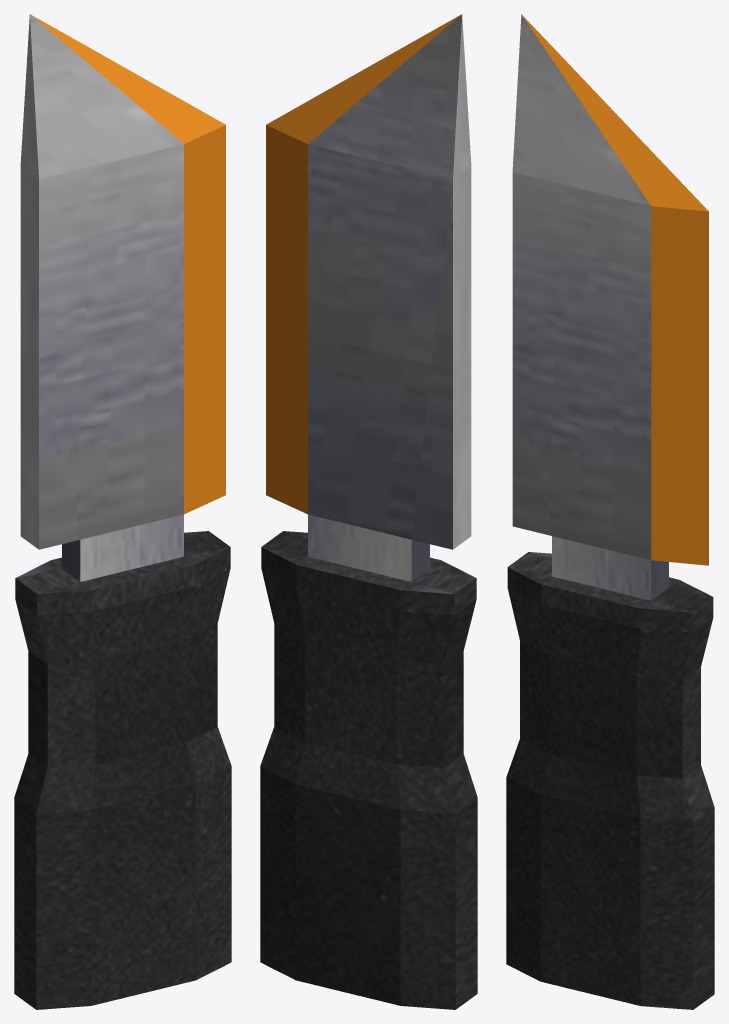
Rendered from SM_KnoifeLM.fbx.
3 renders of one model, left to right at view 1: azimuth 30°, elevation 25°; view 2: azimuth 150°, elevation 25°; view 3: azimuth 330°, elevation 25°, orthographic. The views are drawn at different scales.
Visible parts, largest first — view 1: 1; view 2: 1; view 3: 1.
Boxes of the visible parts, bbox=[...] form: 1: bbox=[14, 14, 231, 1009]; 1: bbox=[260, 14, 477, 1009]; 1: bbox=[506, 14, 714, 1009].
Size of the model in its own units: 8.06 by 37.82 by 2.87.
